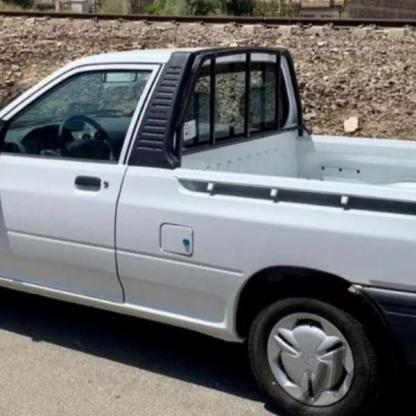Car: (0, 31, 416, 416)
